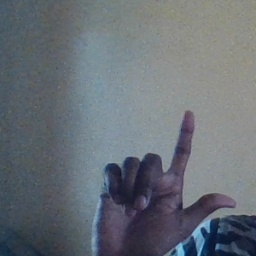L: (90, 109, 237, 256)
